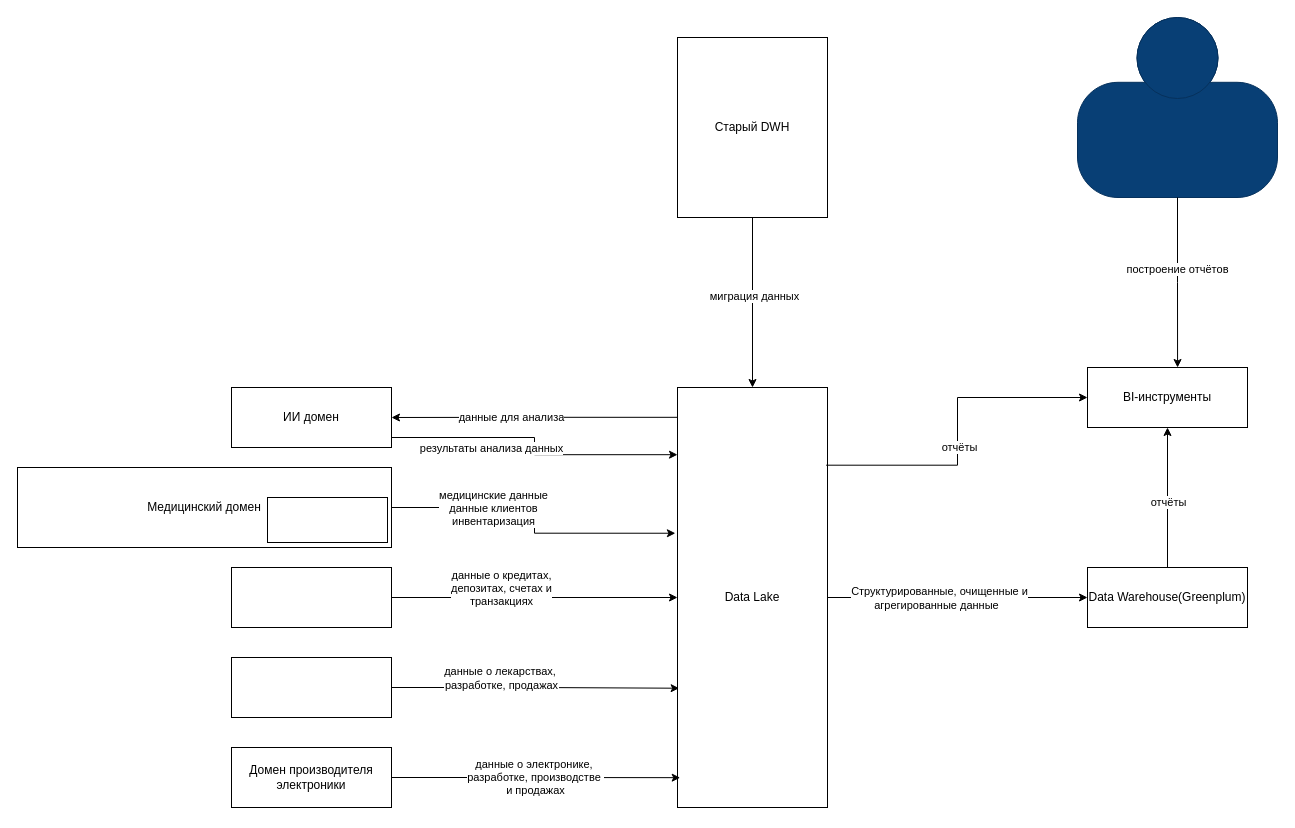
The diagram is 1295 pixels wide and 828 high, and some of its shapes have lost their labels. Each missing label, with the centre of its shape:
"Аналитик [Person]" belongs at (1177,107).
"новый интерфейс оператора" belongs at (327,519).
"Фармацевтический домен" belongs at (311,687).
"Финансовый домен" belongs at (311,597).
